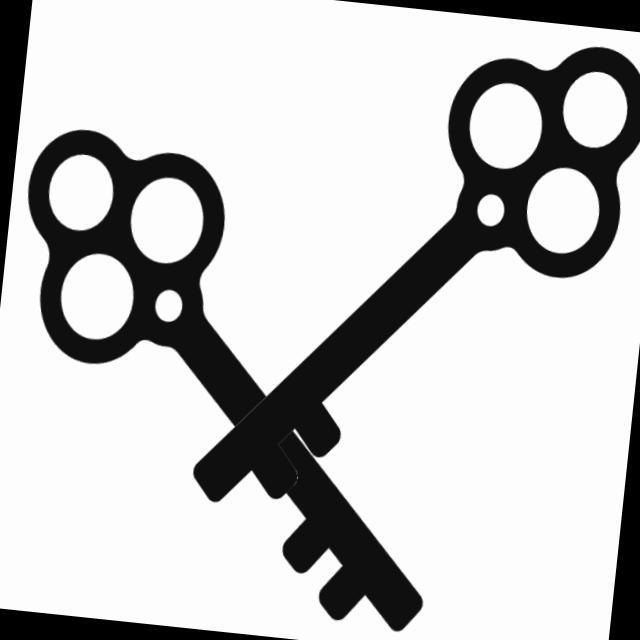key: (180, 1, 640, 558), (1, 118, 480, 640)
